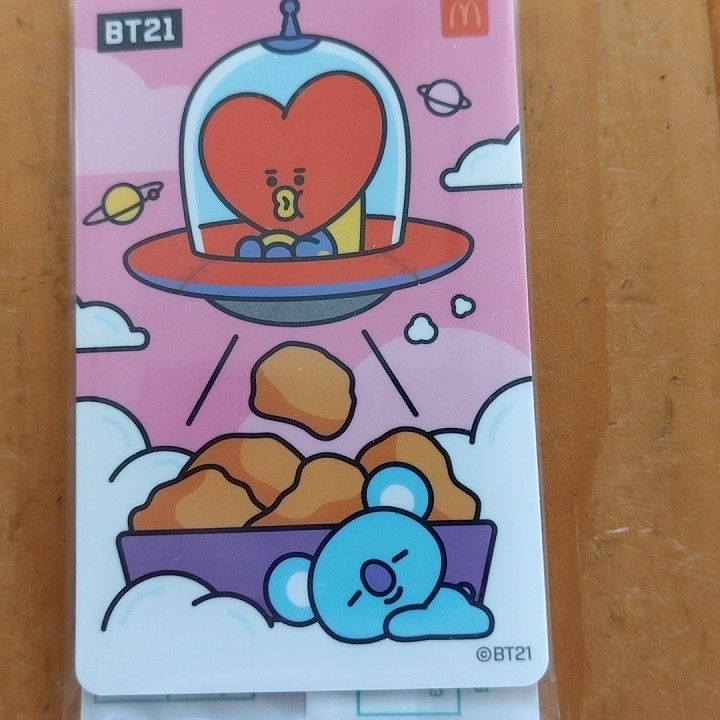card: (75, 1, 545, 683)
